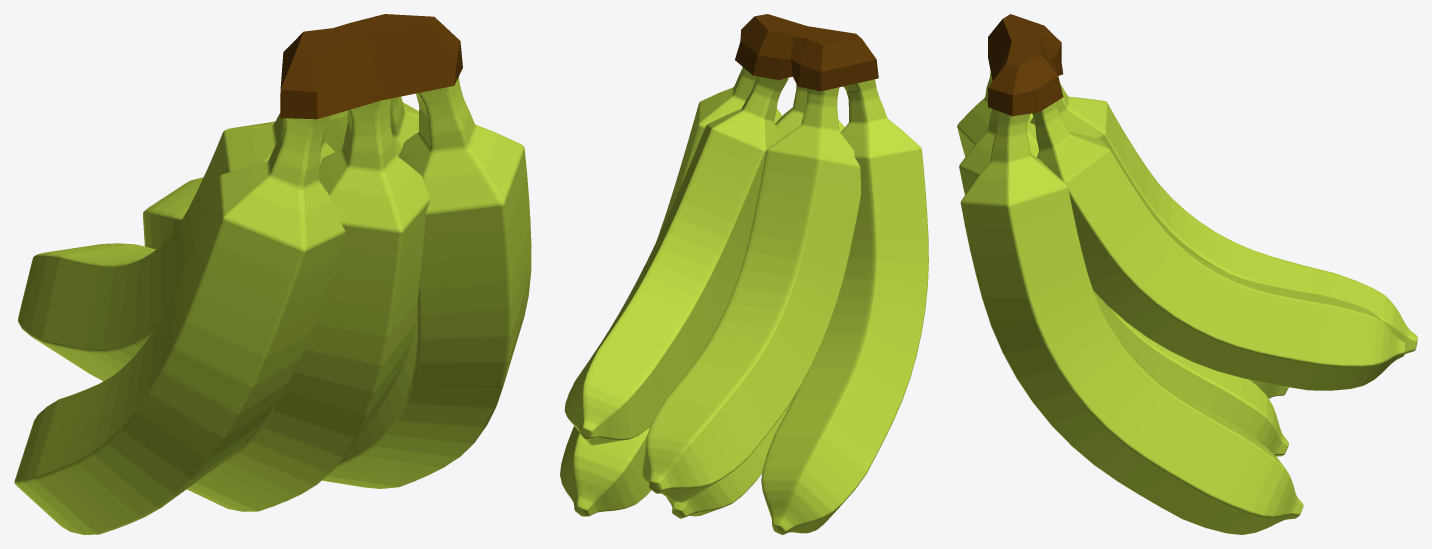
Rendered from CartoonBananasImport.fbx.
3 views of the same model, side by side, from view 1: azimuth 30°, elevation 25°; view 2: azimuth 150°, elevation 25°; view 3: azimuth 270°, elevation 25° (orthographic). The views are drawn at different scales.
Parts seen in each view (by area): view 1: Cylinder_001; view 2: Cylinder_001; view 3: Cylinder_001.
Boxes of the visible parts, x1=… form: Cylinder_001: x1=14, y1=14, x2=531, y2=534; Cylinder_001: x1=560, y1=14, x2=928, y2=534; Cylinder_001: x1=957, y1=14, x2=1417, y2=534.
Bounding box in the file's own units: 6.19 × 8.67 × 8.18.
